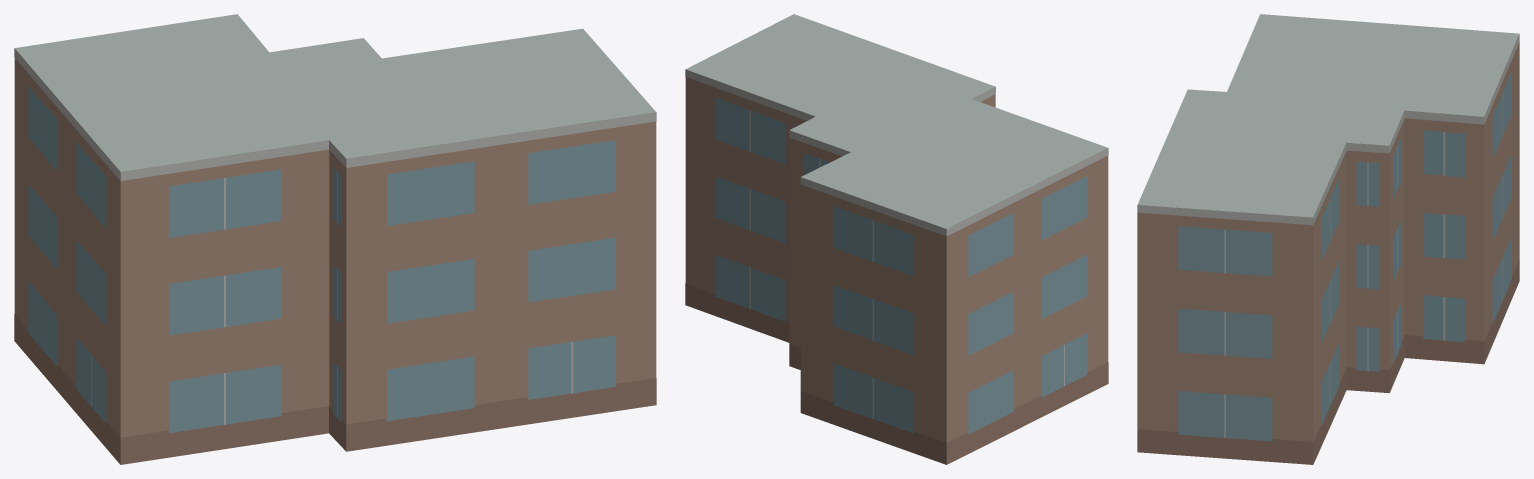
The model's file is survey-upis-33039340.glb.
3 renders of one model, left to right at view 1: azimuth 30°, elevation 25°; view 2: azimuth 150°, elevation 25°; view 3: azimuth 270°, elevation 25°, orthographic. The views are drawn at different scales.
Visible parts, largest first — view 1: survey-upis-33039340.tmp; view 2: survey-upis-33039340.tmp; view 3: survey-upis-33039340.tmp.
Part boxes in pixels (box(x1,y1,x2,y2)): survey-upis-33039340.tmp: box(14, 14, 656, 464); survey-upis-33039340.tmp: box(685, 14, 1108, 464); survey-upis-33039340.tmp: box(1137, 14, 1519, 464).
Size of the model in its own units: 13.78 by 7.8 by 10.93.
